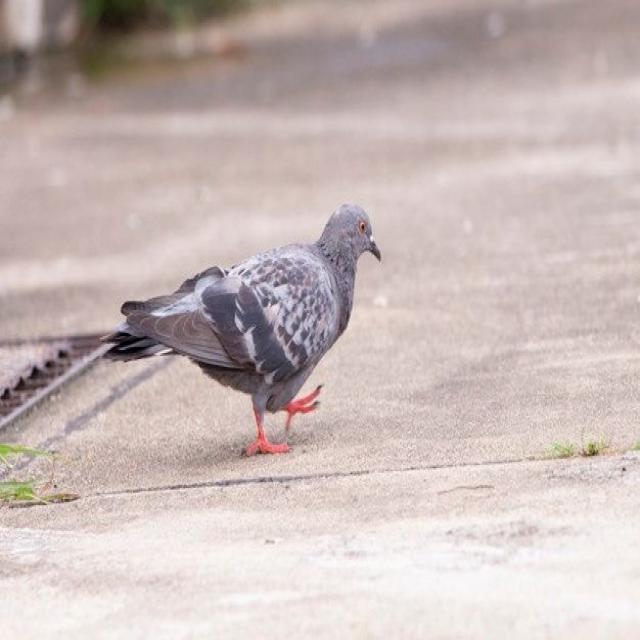bird: (88, 132, 429, 519)
